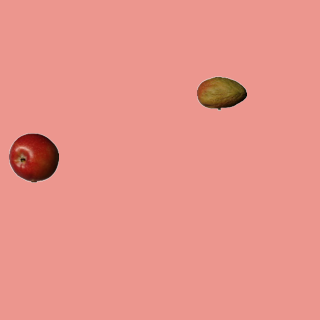Apple Braeburn: (8, 132, 58, 182)
Papaya: (196, 68, 246, 118)
